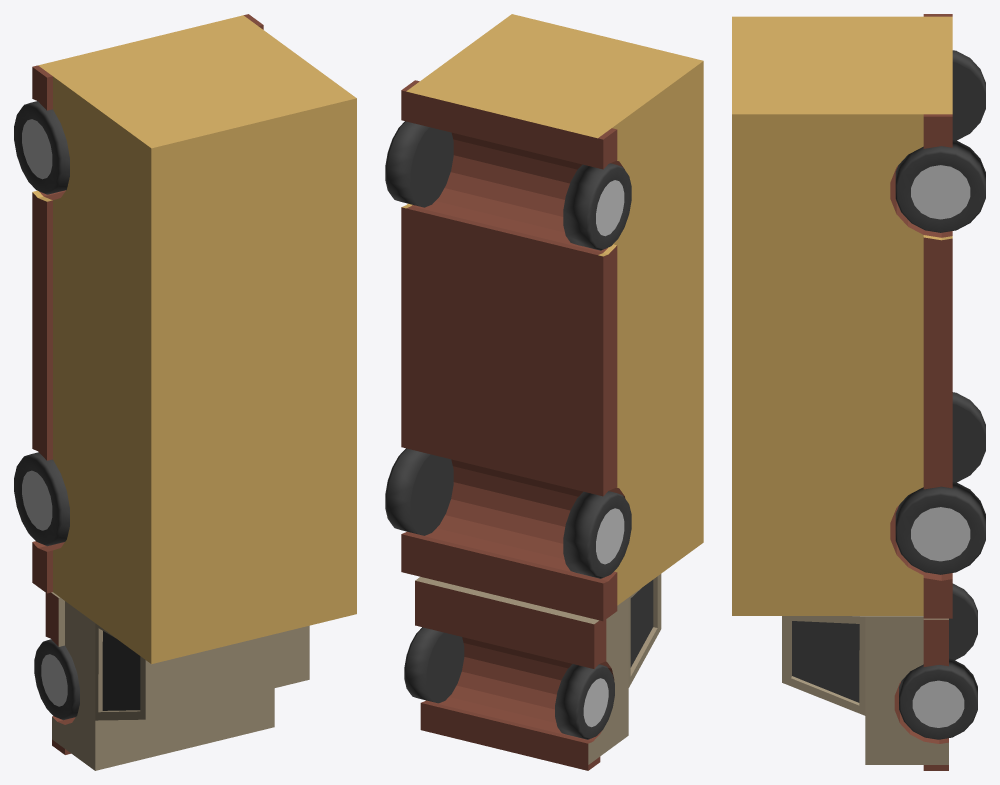
Rendered from transport_viechle.FBX.
The picture shows the model from 3 angles, left to right: view 1: azimuth 30°, elevation 25°; view 2: azimuth 150°, elevation 25°; view 3: azimuth 270°, elevation 25°; orthographic projection. The views are drawn at different scales.
Visible parts, largest first — view 1: chassis, windows, wheel_3, wheel_1, wheel_5; view 2: windows, chassis, wheel_3, wheel_1, wheel_4, wheel_2, wheel_5, wheel_6; view 3: chassis, windows, wheel_4, wheel_2, wheel_6, wheel_1, wheel_3, wheel_5.
Part boxes in pixels (x1=…): chassis: x1=32, y1=15, x2=356, y2=664; windows: x1=32, y1=14, x2=309, y2=770; wheel_3: x1=14, y1=452, x2=69, y2=546; wheel_1: x1=14, y1=101, x2=69, y2=194; wheel_5: x1=34, y1=639, x2=79, y2=720; windows: x1=401, y1=80, x2=661, y2=770; chassis: x1=401, y1=14, x2=703, y2=605; wheel_3: x1=563, y1=491, x2=631, y2=578; wheel_1: x1=563, y1=163, x2=631, y2=250; wheel_4: x1=385, y1=448, x2=453, y2=535; wheel_2: x1=385, y1=121, x2=453, y2=207; wheel_5: x1=555, y1=664, x2=614, y2=739; wheel_6: x1=404, y1=627, x2=464, y2=703; chassis: x1=732, y1=16, x2=952, y2=615; windows: x1=782, y1=14, x2=952, y2=770; wheel_4: x1=895, y1=481, x2=985, y2=574; wheel_2: x1=895, y1=140, x2=985, y2=232; wheel_6: x1=899, y1=658, x2=977, y2=739; wheel_1: x1=952, y1=50, x2=985, y2=140; wheel_3: x1=952, y1=392, x2=985, y2=482; wheel_5: x1=949, y1=583, x2=977, y2=659.
Size of the model in its own units: 736 by 2180 by 756.
